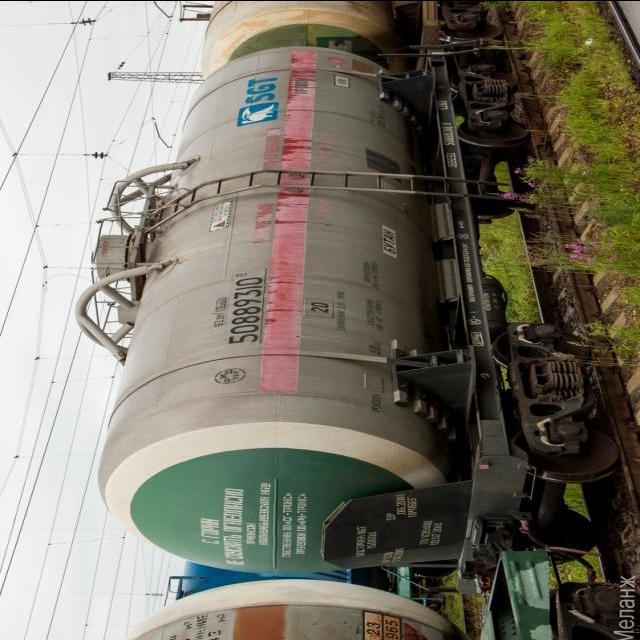wagon: (223, 273, 264, 345)
